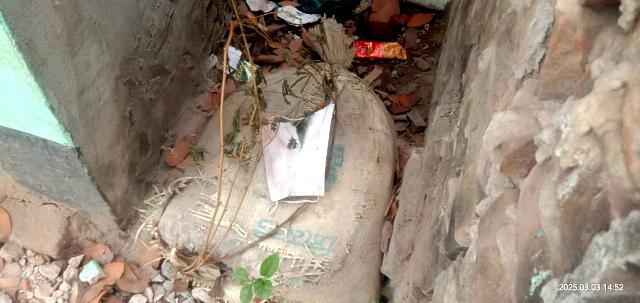mask: (256, 101, 347, 219)
